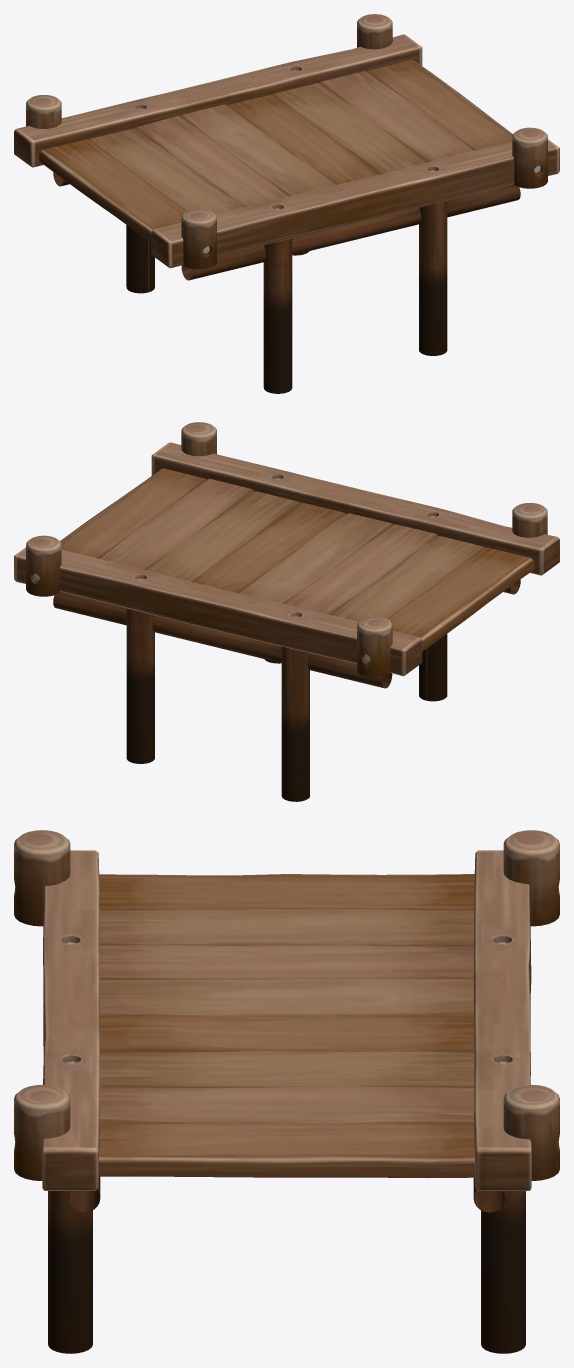
File: bridge-wooden.glb
3 views of the same model, one above another, from view 1: azimuth 30°, elevation 25°; view 2: azimuth 150°, elevation 25°; view 3: azimuth 270°, elevation 25° (orthographic). The views are drawn at different scales.
Parts seen in each view (by area): view 1: BridgeWood__BridgeWood03_node1; view 2: BridgeWood__BridgeWood03_node1; view 3: BridgeWood__BridgeWood03_node1.
Boxes of the visible parts, x1=… form: BridgeWood__BridgeWood03_node1: x1=14, y1=14, x2=559, y2=393; BridgeWood__BridgeWood03_node1: x1=14, y1=422, x2=559, y2=801; BridgeWood__BridgeWood03_node1: x1=14, y1=830, x2=559, y2=1353.
Bounding box in the file's own units: 3.79 × 1.86 × 2.9.
Materials: 1 (1 with a texture image).
